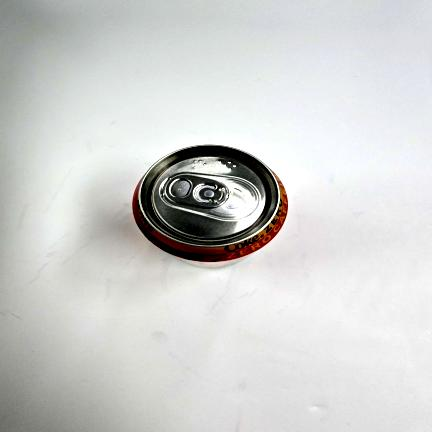can_coke_decaf: (133, 145, 288, 267)
